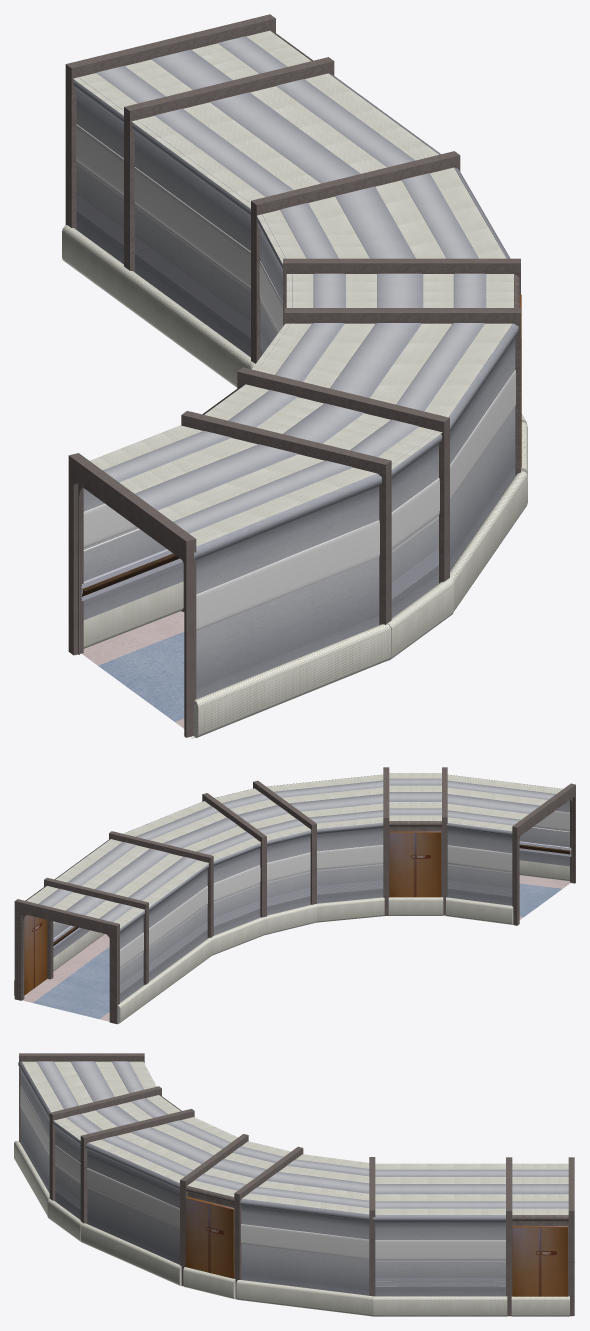
Rendered from Corridor.FBX.
The picture shows the model from 3 angles, top to bottom: view 1: azimuth 30°, elevation 25°; view 2: azimuth 150°, elevation 25°; view 3: azimuth 270°, elevation 25°; orthographic projection. The views are drawn at different scales.
Parts seen in each view (by area): view 1: Plane30, Plane04, Plane06, Plane27, Box165, Plane20, Plane22, Plane07, ChamferBox47, ChamferBox48, Plane29, Box149 (+46 smaller); view 2: Box133, Box85, Plane19, Plane28, Plane06, Plane04, Plane27, Plane20, Plane09, Plane11, Box165, Plane17 (+52 smaller); view 3: Plane10, Plane05, Plane22, Box01, Plane04, Box87, ChamferBox15, Plane07, ChamferBox06, Plane20, ChamferBox16, ChamferBox07 (+47 smaller).
Boxes of the visible parts, left/top/right/bottom form: Plane30: left=194, top=473, right=381, bottom=698; Plane04: left=131, top=73, right=438, bottom=208; Plane06: left=132, top=120, right=250, bottom=357; Plane27: left=89, top=425, right=376, bottom=546; Box165: left=68, top=453, right=196, bottom=737; Plane20: left=252, top=323, right=512, bottom=417; Plane22: left=448, top=323, right=518, bottom=570; Plane07: left=257, top=167, right=506, bottom=263; ChamferBox47: left=190, top=624, right=391, bottom=738; ChamferBox48: left=196, top=520, right=379, bottom=630; Plane29: left=82, top=611, right=184, bottom=728; Box149: left=181, top=411, right=391, bottom=624; Box133: left=389, top=831, right=441, bottom=897; Box85: left=14, top=899, right=119, bottom=1023; Plane19: left=317, top=821, right=383, bottom=903; Plane28: left=446, top=821, right=512, bottom=905; Plane06: left=149, top=864, right=208, bottom=981; Plane04: left=56, top=839, right=208, bottom=906; Plane27: left=447, top=775, right=562, bottom=831; Plane20: left=267, top=774, right=383, bottom=828; Plane09: left=213, top=842, right=260, bottom=935; Plane11: left=22, top=978, right=109, bottom=1021; Box165: left=512, top=783, right=575, bottom=925; Plane17: left=267, top=829, right=311, bottom=915; Plane10: left=240, top=1198, right=373, bottom=1295; Plane05: left=373, top=1215, right=505, bottom=1296; Plane22: left=85, top=1142, right=179, bottom=1264; Box01: left=512, top=1226, right=567, bottom=1296; Plane04: left=375, top=1163, right=505, bottom=1214; Box87: left=185, top=1196, right=234, bottom=1278; ChamferBox15: left=236, top=1280, right=373, bottom=1316; Plane07: left=242, top=1154, right=369, bottom=1214; ChamferBox06: left=371, top=1296, right=507, bottom=1316; Plane20: left=89, top=1117, right=237, bottom=1182; ChamferBox16: left=241, top=1224, right=369, bottom=1259; ChamferBox07: left=375, top=1240, right=505, bottom=1259.
Bounding box in the file's own units: 29.61 × 9.13 × 44.19.
